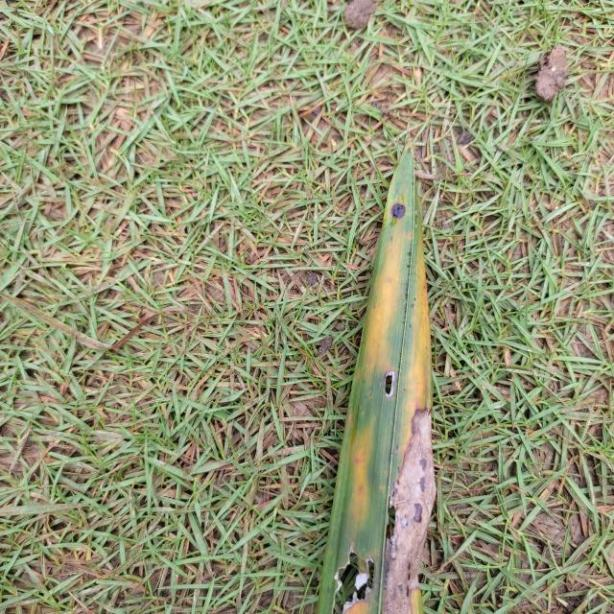Kalium: (317, 136, 438, 614)
